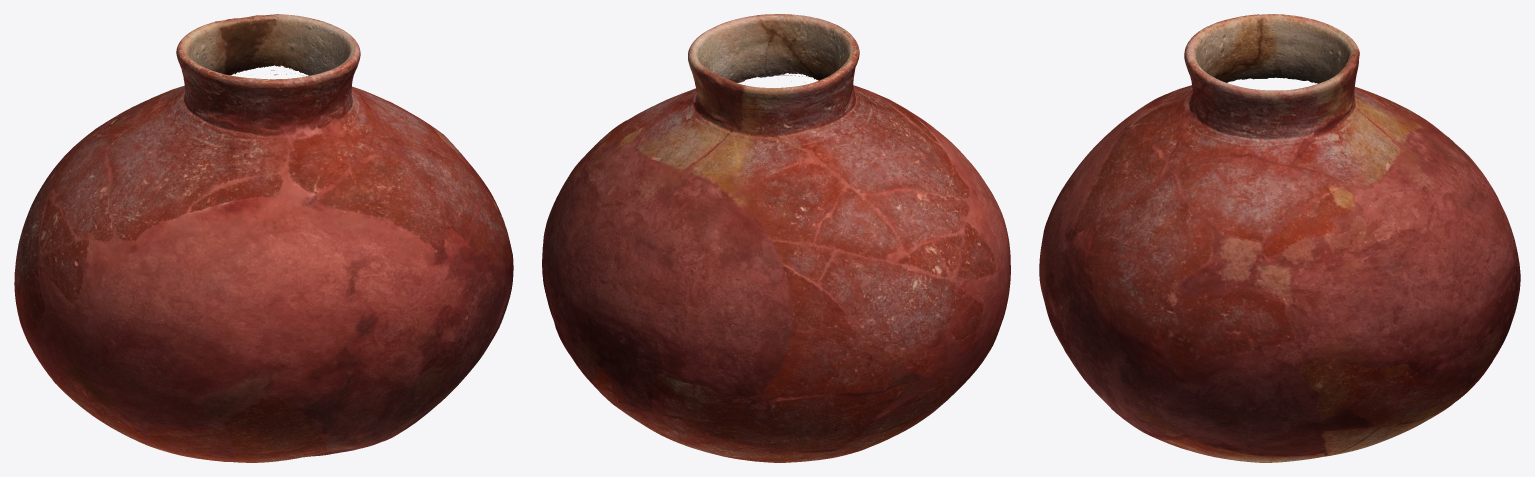
3 views of the same model, side by side, from view 1: azimuth 30°, elevation 25°; view 2: azimuth 150°, elevation 25°; view 3: azimuth 270°, elevation 25° (orthographic). The views are drawn at different scales.
Visible parts, largest first — view 1: Mesh_0.010; view 2: Mesh_0.010; view 3: Mesh_0.010.
Boxes of the visible parts, bbox=[...] form: Mesh_0.010: bbox=[14, 14, 513, 462]; Mesh_0.010: bbox=[542, 14, 1010, 462]; Mesh_0.010: bbox=[1039, 14, 1520, 462].
Size of the model in its own units: 0.2694 by 0.2406 by 0.2644.
1 material, 1 textured.
